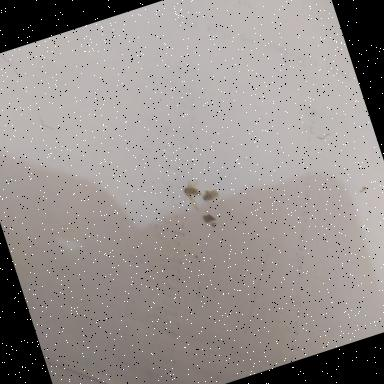pbw: (181, 179, 204, 210), (201, 184, 222, 201)
